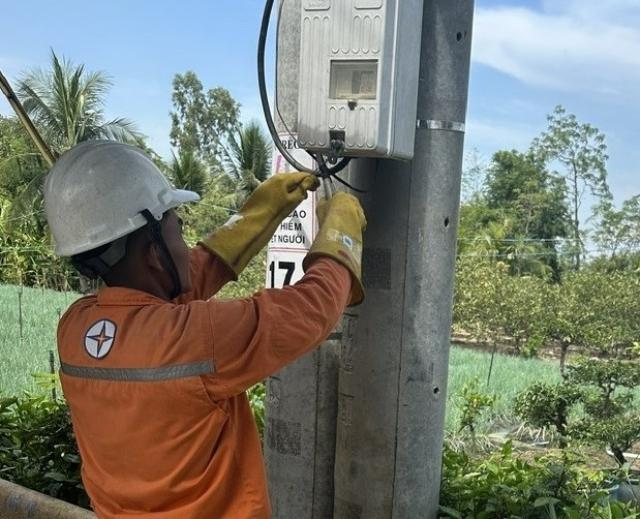gloves: (206, 162, 321, 279), (293, 177, 373, 298)
helmet: (17, 126, 201, 250)
